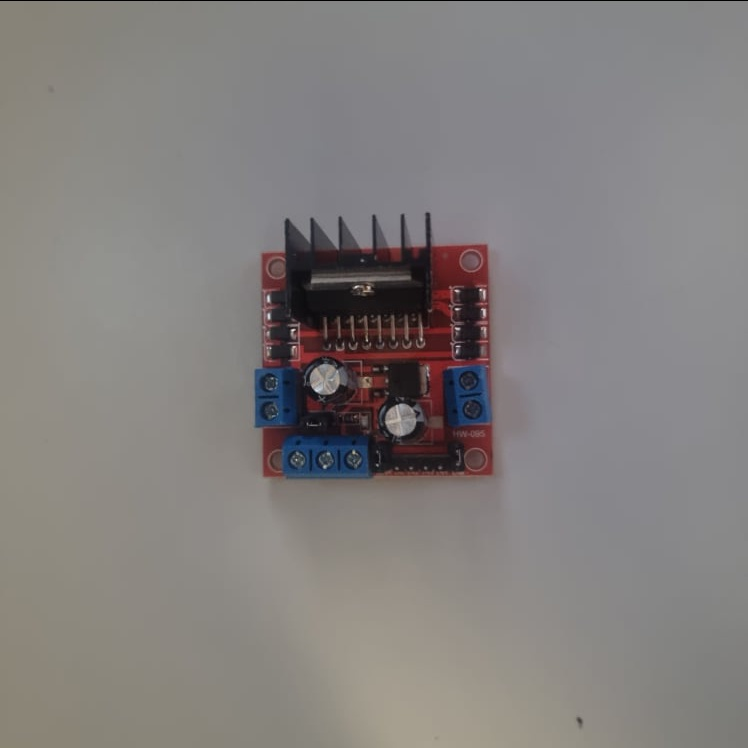MOTOR: (254, 210, 491, 483)
